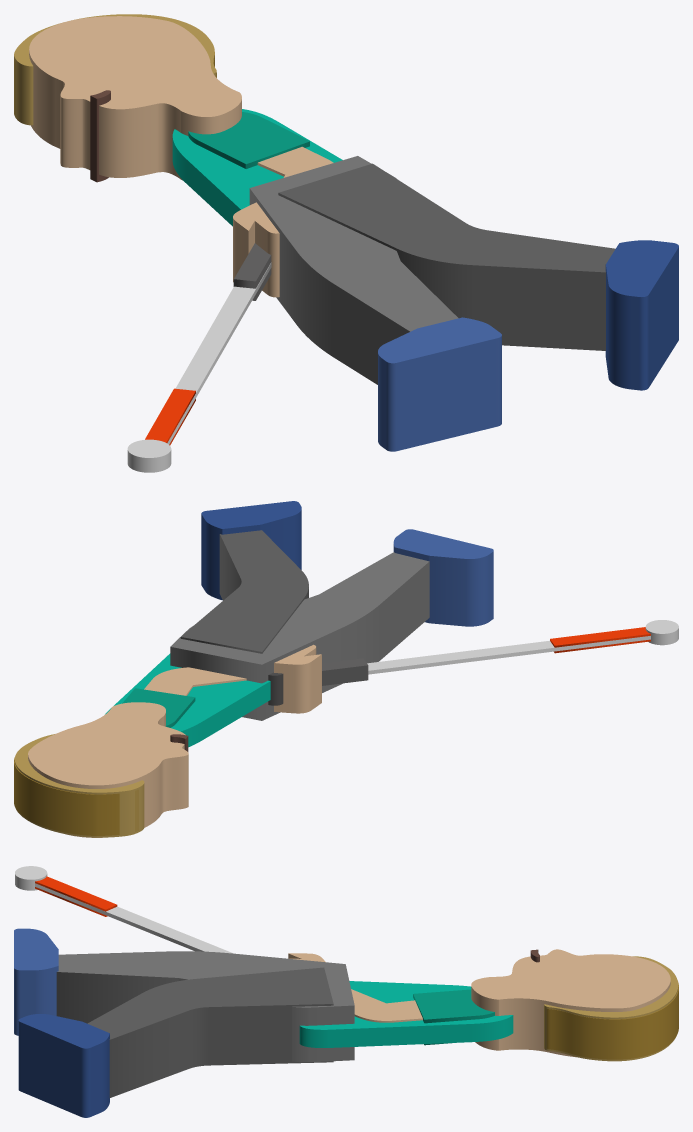
Rendered from emoji_u1f468_1f3fc_200d_1f9af.glb.
3 views of the same model, one above another, from view 1: azimuth 30°, elevation 25°; view 2: azimuth 150°, elevation 25°; view 3: azimuth 270°, elevation 25° (orthographic). The views are drawn at different scales.
Parts seen in each view (by area): view 1: emoji_u1f468_1f3fc_200d_1f9af; view 2: emoji_u1f468_1f3fc_200d_1f9af; view 3: emoji_u1f468_1f3fc_200d_1f9af.
Part boxes in pixels (x1,y1,x2,y2): emoji_u1f468_1f3fc_200d_1f9af: (14,14,678,472); emoji_u1f468_1f3fc_200d_1f9af: (14,501,678,837); emoji_u1f468_1f3fc_200d_1f9af: (14,866,678,1117).
Bounding box in the file's own units: 0.0249 × 0.0038 × 0.033.
